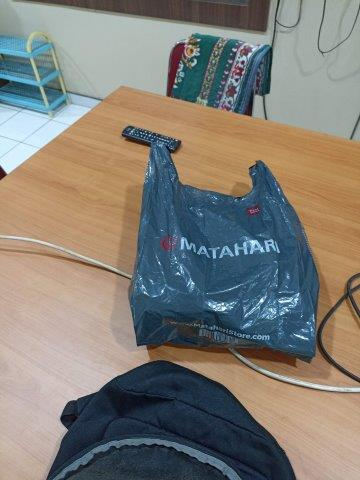plastik: (129, 138, 320, 361)
